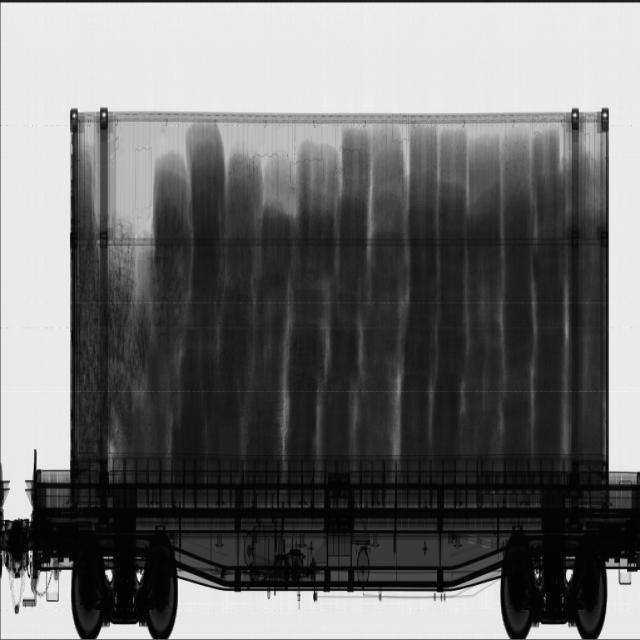textile: (60, 124, 476, 466)
